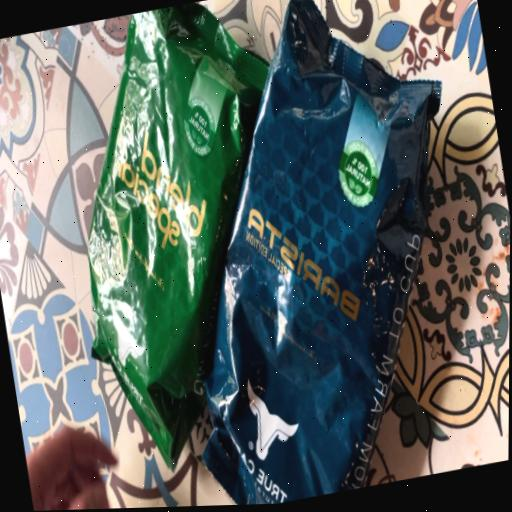cafe_hat: (202, 0, 440, 505)
cafe_xay: (87, 1, 267, 462)
